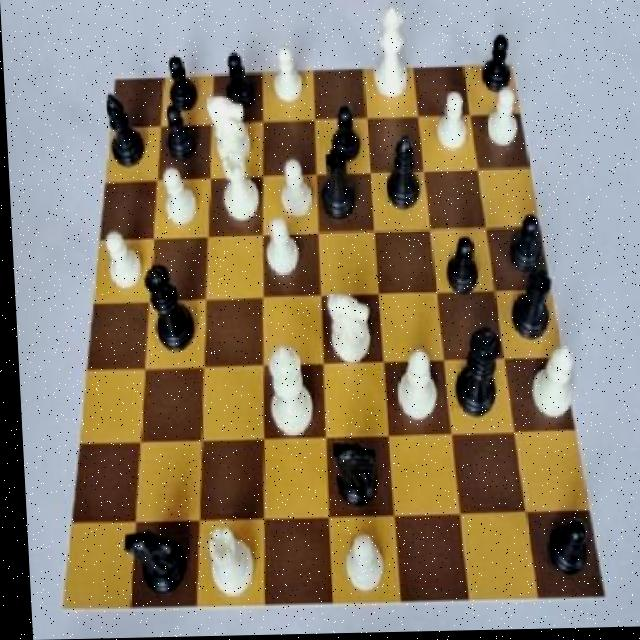bishop: (376, 131, 428, 228), (98, 84, 147, 182)
black-bishop: (446, 327, 507, 425)
black-king: (112, 519, 189, 608), (321, 429, 379, 517)
black-knight: (538, 508, 600, 588), (471, 29, 527, 103), (320, 101, 370, 174), (498, 203, 545, 278), (160, 104, 206, 177), (435, 235, 486, 300), (159, 47, 206, 116), (224, 49, 266, 122)
black-pawn: (135, 258, 201, 357)
black-queen: (502, 271, 561, 346), (314, 145, 362, 230)
black-rook: (381, 346, 442, 432), (521, 341, 578, 422)
white-bishop: (259, 338, 311, 441)
white-king: (318, 286, 374, 371), (201, 93, 255, 171)
white-knight: (331, 524, 385, 598), (262, 36, 310, 112), (478, 85, 525, 160), (268, 155, 313, 228), (261, 216, 309, 284), (157, 166, 204, 233), (97, 228, 146, 292), (432, 90, 469, 170)
white-pawn: (367, 4, 413, 109)
white-queen: (193, 520, 258, 607), (211, 150, 262, 236)
